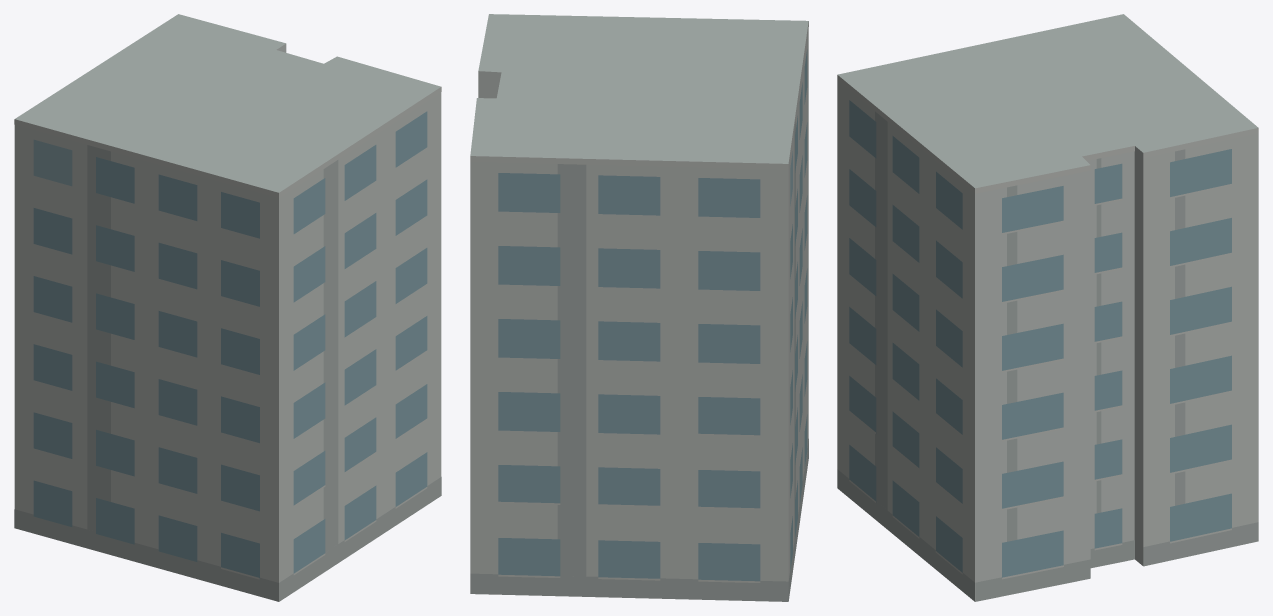
Rendered from survey-upis-32708347.glb.
3 views of the same model, side by side, from view 1: azimuth 30°, elevation 25°; view 2: azimuth 150°, elevation 25°; view 3: azimuth 270°, elevation 25° (orthographic). The views are drawn at different scales.
Parts seen in each view (by area): view 1: survey-upis-32708347.tmp; view 2: survey-upis-32708347.tmp; view 3: survey-upis-32708347.tmp.
Part boxes in pixels (left/top/right/bottom): survey-upis-32708347.tmp: left=14, top=14, right=441, bottom=601; survey-upis-32708347.tmp: left=470, top=14, right=808, bottom=601; survey-upis-32708347.tmp: left=837, top=14, right=1258, bottom=601.
Size of the model in its own units: 16.55 by 18.3 by 16.91.
